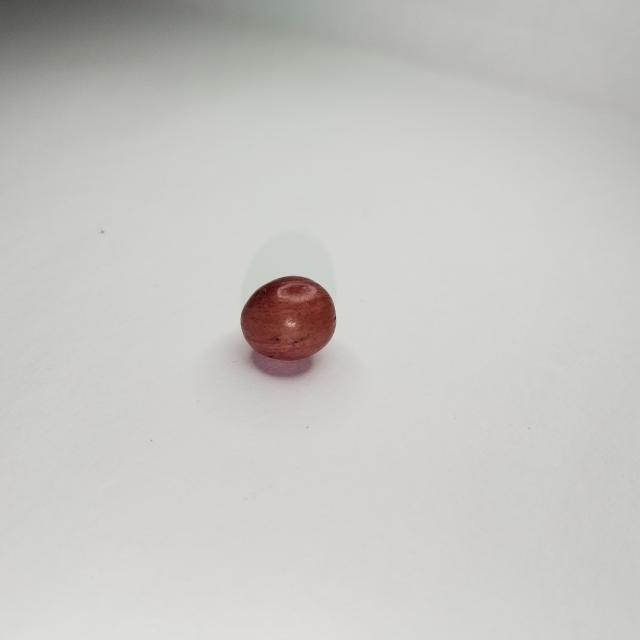Sano: (243, 277, 335, 361)
